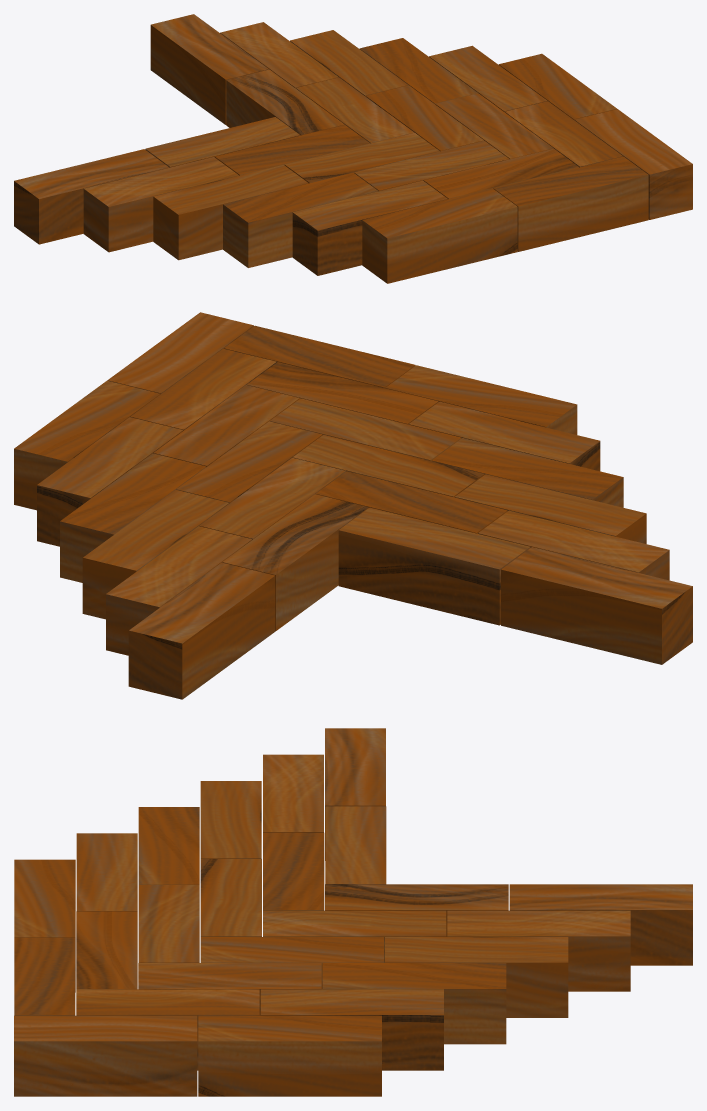
The model's file is DiagonalStraightCorner.glb.
The picture shows the model from 3 angles, top to bottom: view 1: azimuth 30°, elevation 25°; view 2: azimuth 150°, elevation 25°; view 3: azimuth 270°, elevation 25°; orthographic projection. The views are drawn at different scales.
Parts seen in each view (by area): view 1: DiagonalStraightCorner; view 2: DiagonalStraightCorner; view 3: DiagonalStraightCorner.
Part boxes in pixels (x1,y1,x2,y2): DiagonalStraightCorner: (14,14,692,283); DiagonalStraightCorner: (14,312,692,699); DiagonalStraightCorner: (14,728,692,1096).
Bounding box in the file's own units: 4.85 × 0.4 × 4.44.
1 material, 1 textured.
